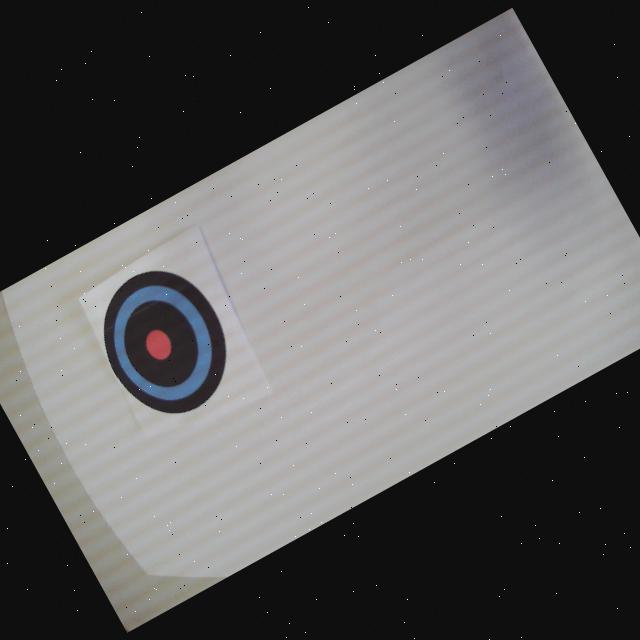COGNITIVE: (78, 249, 252, 435)
